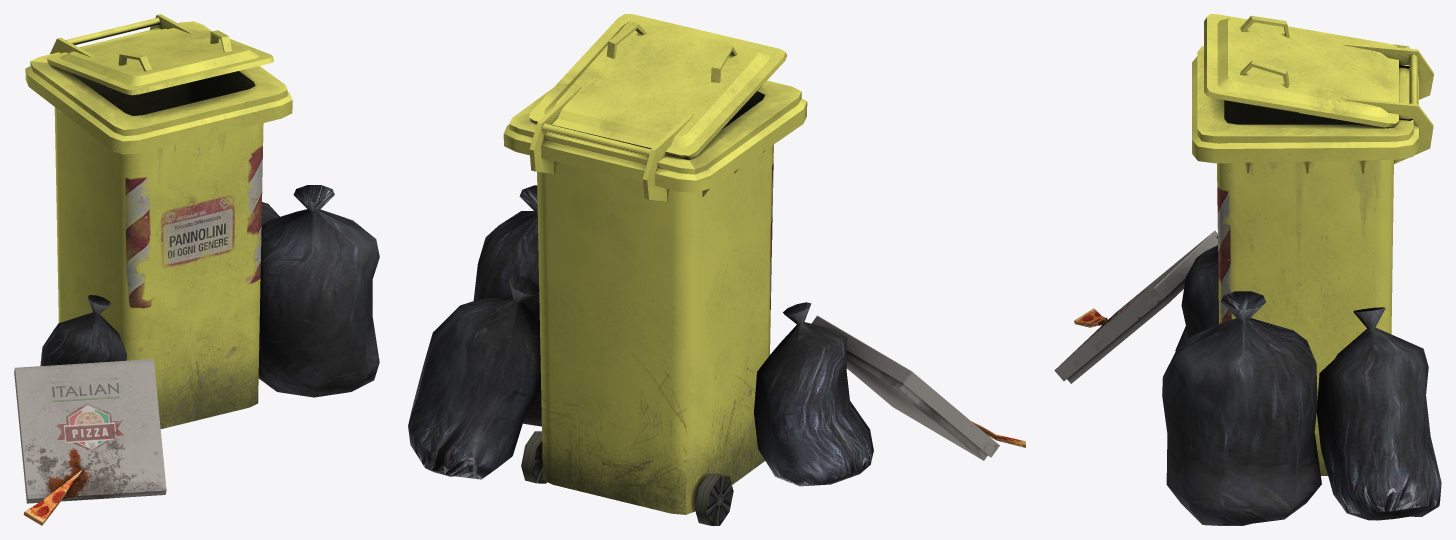
Rendered from trash_container.glb.
3 renders of one model, left to right at view 1: azimuth 30°, elevation 25°; view 2: azimuth 150°, elevation 25°; view 3: azimuth 270°, elevation 25°, orthographic. The views are drawn at different scales.
Visible parts, largest first — view 1: Object001_Material #21_0, Cylinder005, Box003; view 2: Object001_Material #21_0, Cylinder005, Box003; view 3: Object001_Material #21_0, Cylinder005, Box003.
Part boxes in pixels (x1=…): Object001_Material #21_0: x1=25, y1=14, x2=292, y2=428; Cylinder005: x1=40, y1=185, x2=379, y2=397; Box003: x1=14, y1=359, x2=166, y2=525; Object001_Material #21_0: x1=503, y1=14, x2=807, y2=525; Cylinder005: x1=408, y1=185, x2=873, y2=486; Box003: x1=811, y1=315, x2=1025, y2=460; Object001_Material #21_0: x1=1192, y1=14, x2=1433, y2=475; Cylinder005: x1=1162, y1=236, x2=1441, y2=525; Box003: x1=1054, y1=230, x2=1217, y2=383.
Size of the model in its own units: 177 by 154 by 130.
3 materials, 3 textured.
